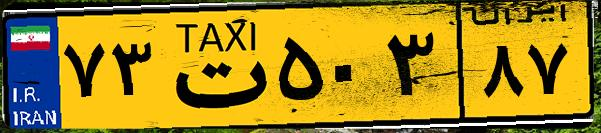0: (330, 28, 385, 110)
3: (385, 28, 445, 110), (110, 28, 158, 98)
5: (270, 28, 330, 110)
7: (57, 26, 110, 100), (525, 38, 570, 115)
8: (475, 38, 525, 113)
ت: (158, 12, 270, 120)
